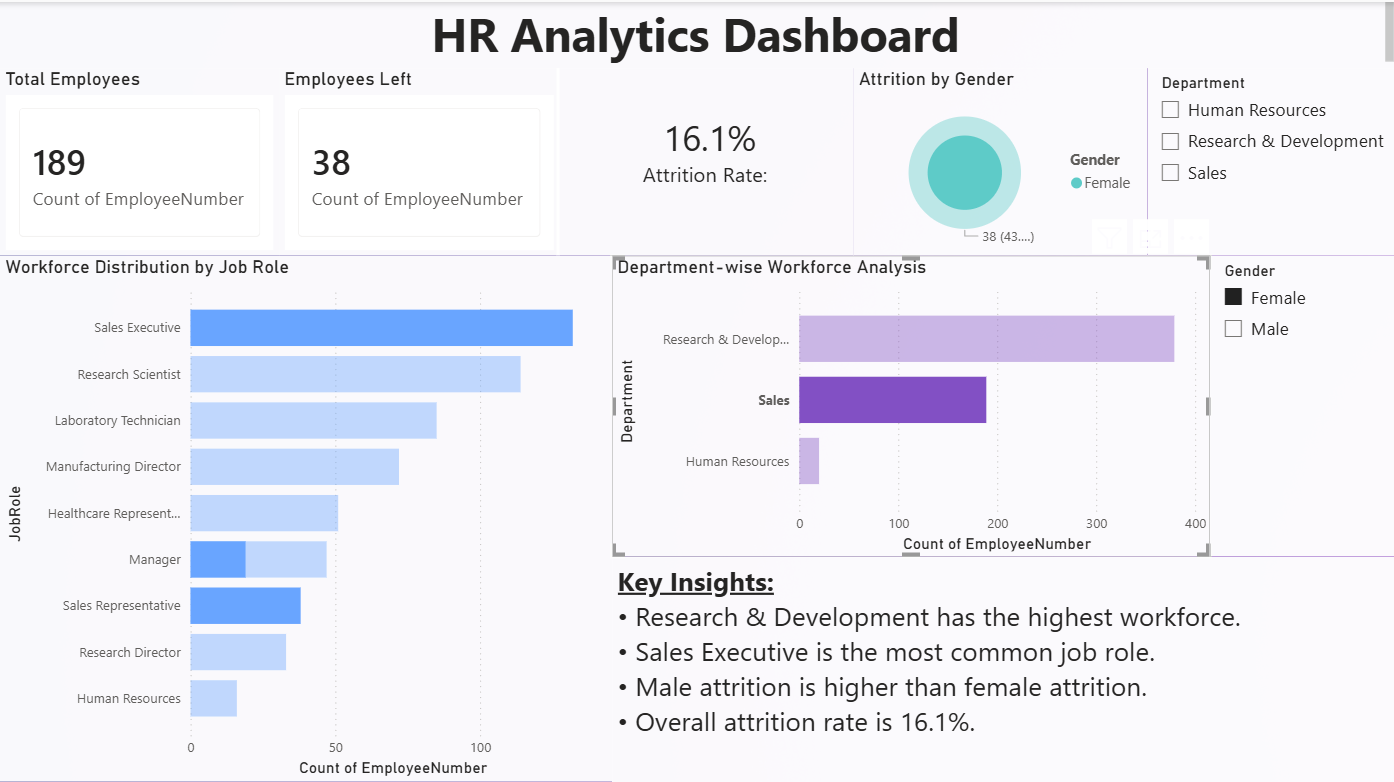

What the dashboard file says about the page in this screenshot:
{"tool":"powerbi","page":{"name":"Page 1","canvas":[1280,720],"ordinal":0},"visuals":[{"type":"cardVisual","title":"Total Employees","fields":{"Data":["CountNonNull(WA_Fn-UseC_-HR-Employee-Attrition.EmployeeNumber)"]},"box":[0,153.1,319.4,181.4],"z":0},{"type":"cardVisual","title":"Attrition Count","fields":{"Data":["CountNonNull(WA_Fn-UseC_-HR-Employee-Attrition.EmployeeNumber)"]},"box":[319.4,153.1,321.3,181.4],"z":1000},{"type":"clusteredBarChart","title":"Employees by Department","fields":{"Category":["WA_Fn-UseC_-HR-Employee-Attrition.Department"],"Y":["CountNonNull(WA_Fn-UseC_-HR-Employee-Attrition.EmployeeNumber)"]},"box":[559.4,334.5,548,383.6],"z":2000},{"type":"pieChart","title":"Attrition by Gender","fields":{"Category":["WA_Fn-UseC_-HR-Employee-Attrition.Gender"],"Y":["CountNonNull(WA_Fn-UseC_-HR-Employee-Attrition.EmployeeNumber)"]},"box":[640.6,153.1,370.4,181.4],"z":3000},{"type":"clusteredBarChart","title":"Employees by Job Role","fields":{"Category":["WA_Fn-UseC_-HR-Employee-Attrition.JobRole"],"Y":["CountNonNull(WA_Fn-UseC_-HR-Employee-Attrition.EmployeeNumber)"]},"box":[0,334.8,559.9,384.3],"z":4000},{"type":"slicer","fields":{"Values":["WA_Fn-UseC_-HR-Employee-Attrition.Department"]},"box":[1011,153.1,268.3,181.4],"z":5000},{"type":"slicer","fields":{"Values":["WA_Fn-UseC_-HR-Employee-Attrition.Gender"]},"box":[1107.4,334.5,172,383.6],"z":6000},{"type":"textbox","box":[0,0,1279.4,153.1],"z":7000}]}

Visuals, with their boxes in screenshot pixels (x1, y1, x2, y2), scaled from the page's 1280x720 canvas onto the 1394x782 screenshot:
"Total Employees" cardVisual: (0, 166, 348, 363)
"Attrition Count" cardVisual: (348, 166, 698, 363)
"Employees by Department" clusteredBarChart: (609, 363, 1206, 780)
"Attrition by Gender" pieChart: (698, 166, 1101, 363)
"Employees by Job Role" clusteredBarChart: (0, 364, 610, 781)
slicer - WA_Fn-UseC_-HR-Employee-Attrition.Department: (1101, 166, 1393, 363)
slicer - WA_Fn-UseC_-HR-Employee-Attrition.Gender: (1206, 363, 1393, 780)
textbox: (0, 0, 1393, 166)
